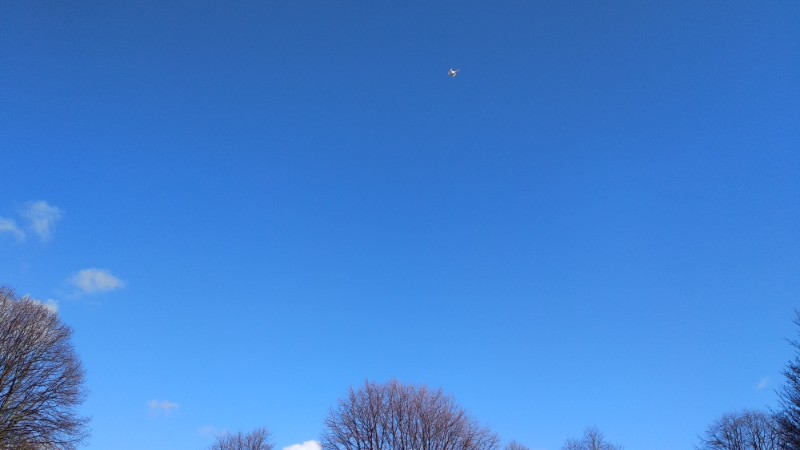drone: (445, 64, 461, 79)
